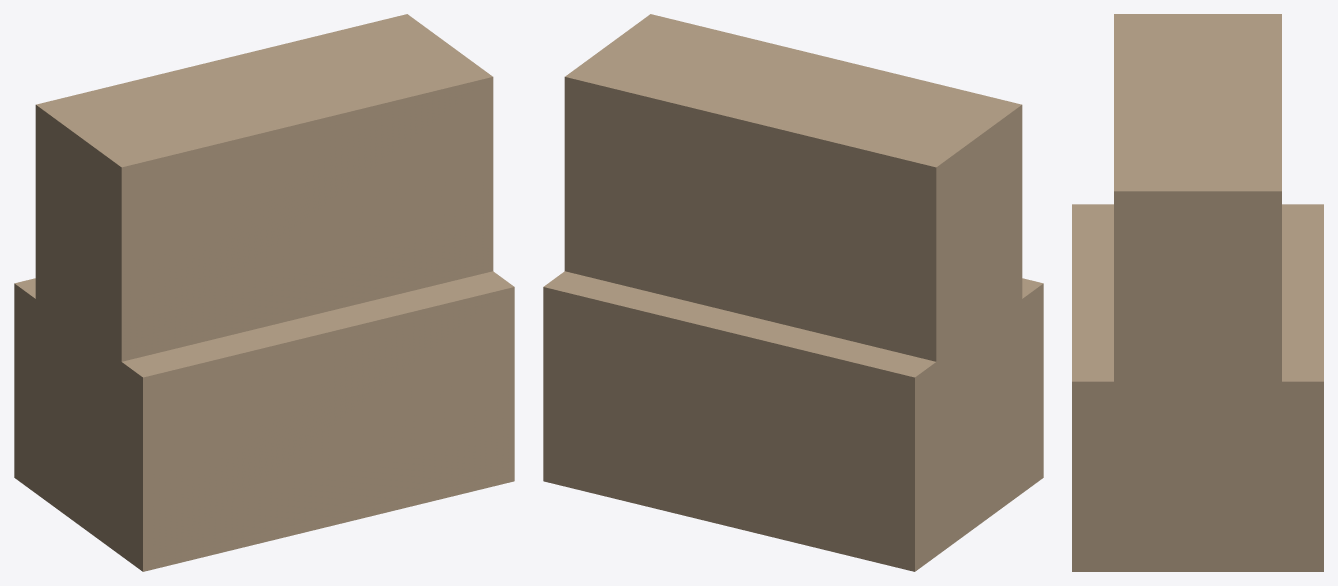
The model's file is terrace.glb.
3 renders of one model, left to right at view 1: azimuth 30°, elevation 25°; view 2: azimuth 150°, elevation 25°; view 3: azimuth 270°, elevation 25°, orthographic. The views are drawn at different scales.
Visible parts, largest first — view 1: terrace; view 2: terrace; view 3: terrace.
Boxes of the visible parts, x1,y1,x2,y2 form: terrace: (14,14,514,571); terrace: (543,14,1043,571); terrace: (1072,14,1323,571).
Size of the model in its own units: 1 by 1 by 0.6.
